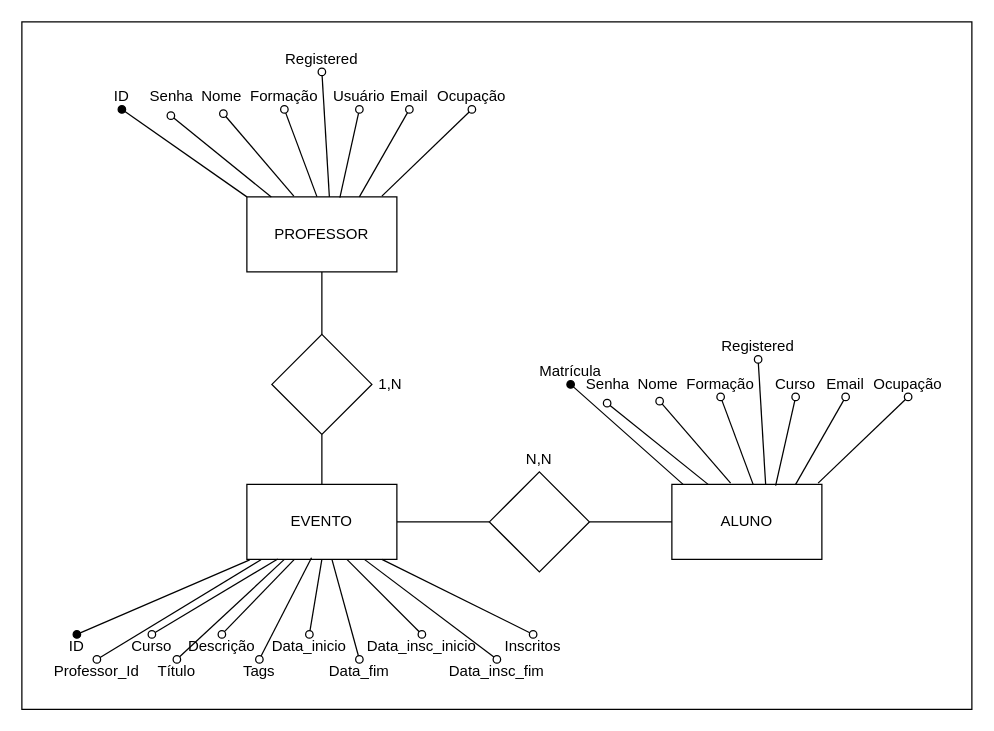
The diagram is 994 pixels wide and 731 high, and some of its shapes have lost their labels. The shapes that lost their labels are listed below. From the top down, each one's box as (x1, y1, x2, y2) in pixels, then its label:
(271, 333, 372, 434): CRIA
(488, 471, 589, 572): PARTICIPA
